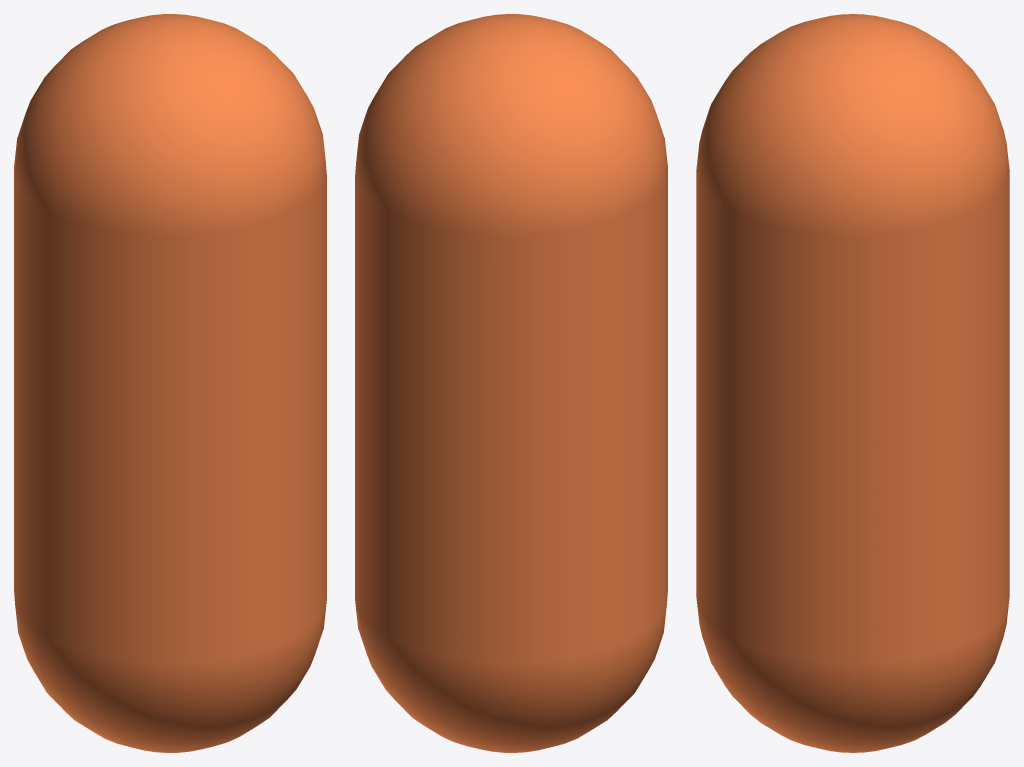
Rendered from roller-capsule.glb.
3 views of the same model, side by side, from view 1: azimuth 30°, elevation 25°; view 2: azimuth 150°, elevation 25°; view 3: azimuth 270°, elevation 25° (orthographic).
Size of the model in its own units: 0.6 by 1.5 by 0.6.
